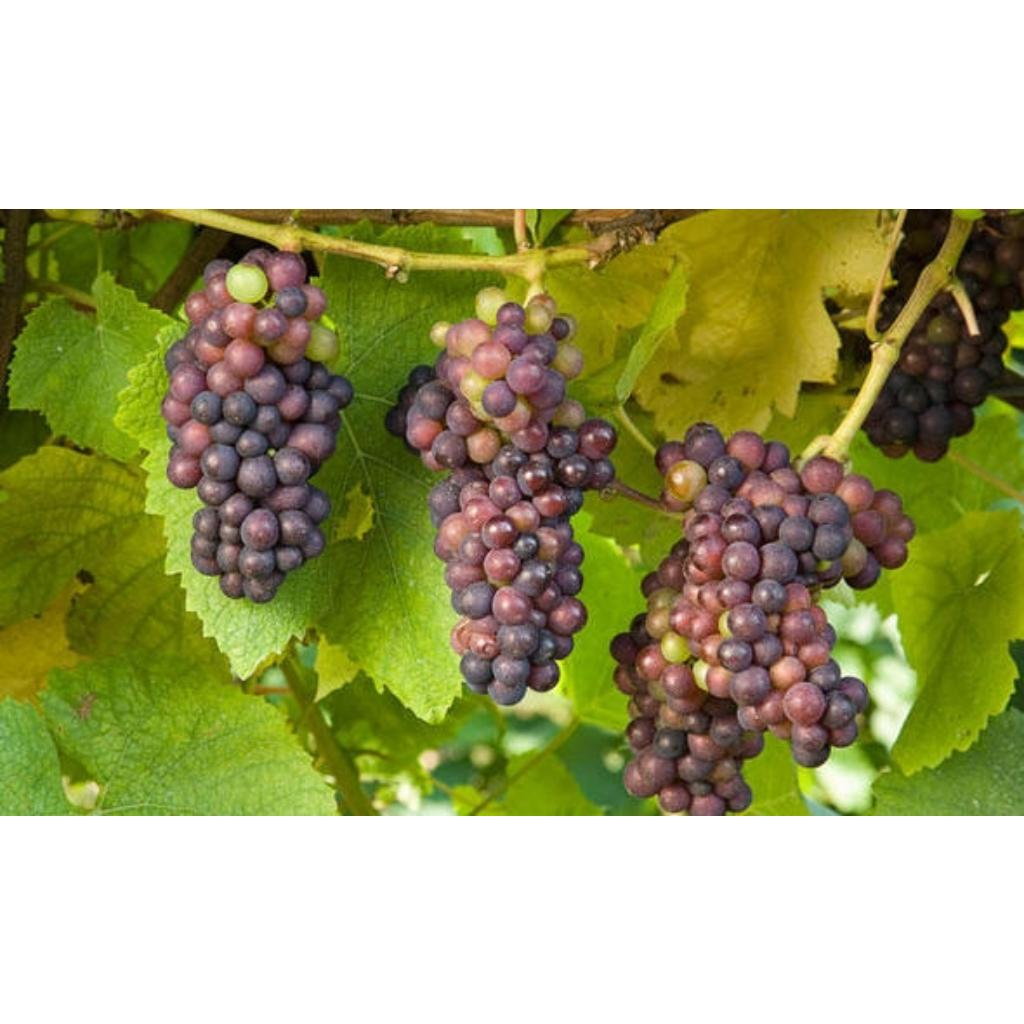grape: (609, 420, 911, 812), (384, 288, 613, 701), (160, 246, 351, 599), (861, 211, 1021, 458), (880, 208, 946, 316)
